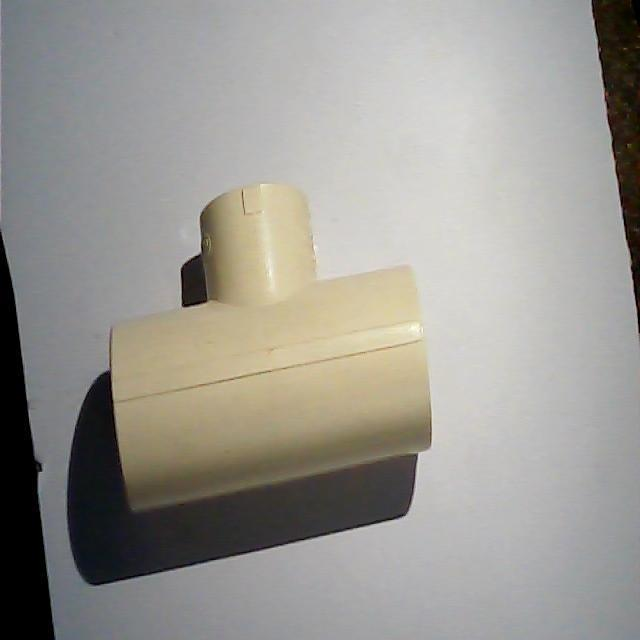T Joint: (109, 183, 433, 514)
